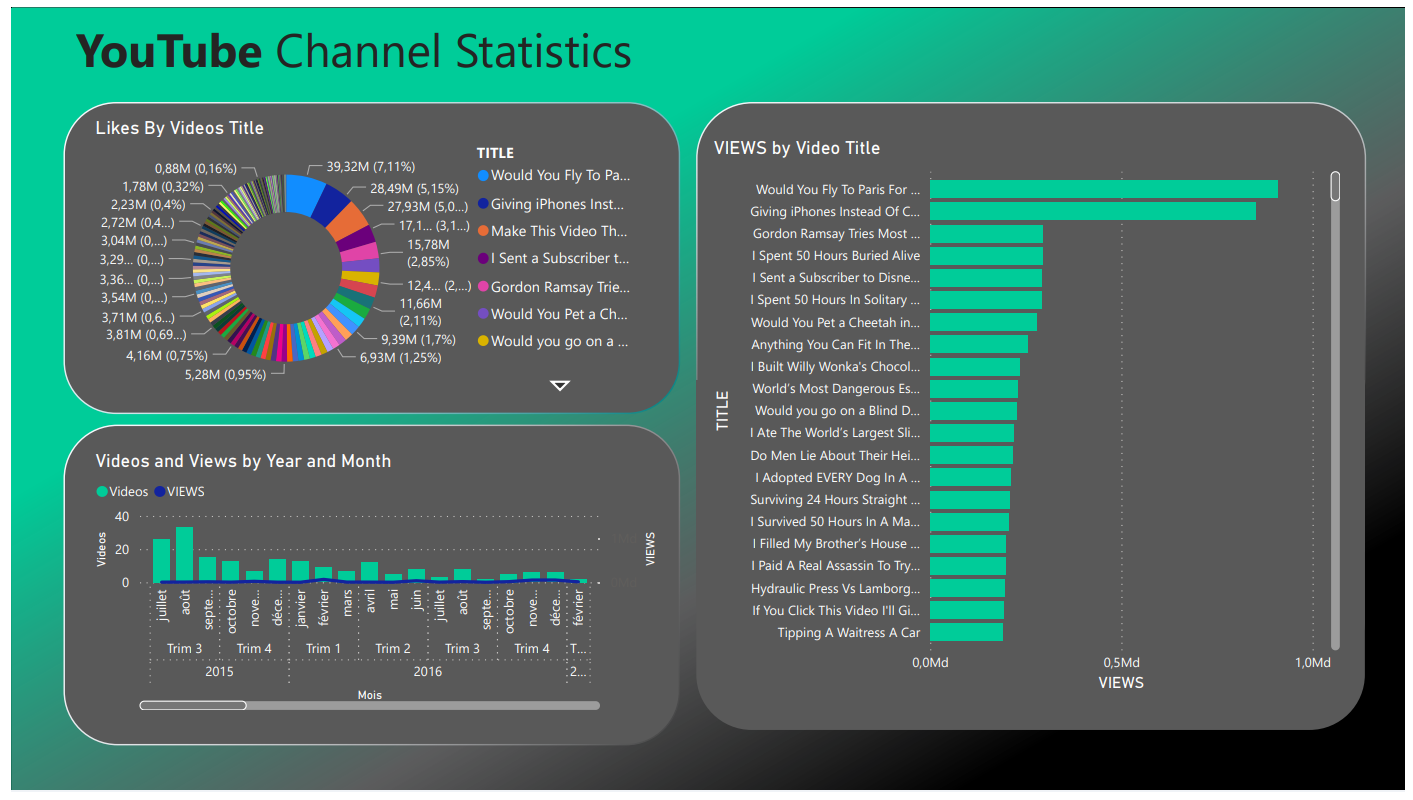

What the dashboard file says about the page in this screenshot:
{"tool":"powerbi","page":{"name":"Page 1","canvas":[1280,720],"ordinal":0},"visuals":[{"type":"textbox","box":[55,3.8,542.5,70],"z":4000},{"type":"donutChart","title":"Likes By Videos Title","fields":{"Category":["YOUTUBE.TITLE"],"Y":["Sum(YOUTUBE.LIKES)"]},"box":[72.5,100,511.2,260],"z":5000},{"type":"lineStackedColumnComboChart","title":"Videos and Views by Year and Month","fields":{"Category":["YOUTUBE.PUBLISHED_DATE.Variation.Hiérarchie de dates.Année","YOUTUBE.PUBLISHED_DATE.Variation.Hiérarchie de dates.Trimestre","YOUTUBE.PUBLISHED_DATE.Variation.Hiérarchie de dates.Mois"],"Y":["CountNonNull(YOUTUBE.TITLE)"],"Y2":["Sum(YOUTUBE.VIEWS)"]},"box":[72.5,406.2,526.2,243.8],"z":6000},{"type":"barChart","title":"VIEWS by Video Title","fields":{"Category":["YOUTUBE.TITLE"],"Y":["Sum(YOUTUBE.VIEWS)"]},"box":[640,118.8,585,513.8],"z":7000}]}

Visuals, with their boxes in screenshot pixels (x1, y1, x2, y2), scaled from the page's 1280x720 canvas onto the 1413x800 screenshot:
textbox: <region>61, 4, 660, 82</region>
"Likes By Videos Title" donutChart: <region>80, 111, 644, 400</region>
"Videos and Views by Year and Month" lineStackedColumnComboChart: <region>80, 451, 661, 722</region>
"VIEWS by Video Title" barChart: <region>706, 132, 1352, 703</region>
